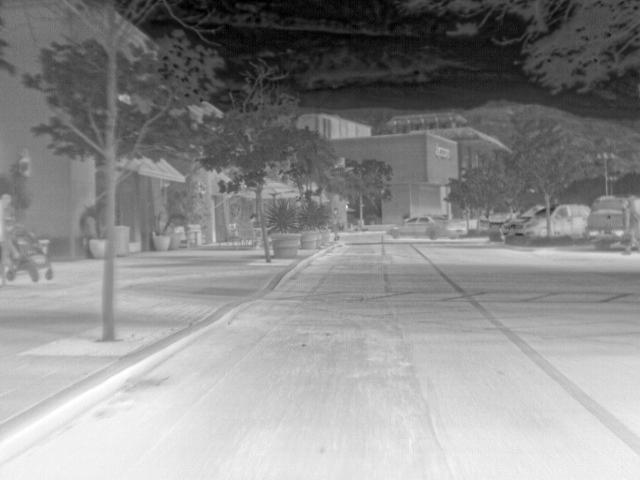car: (588, 193, 640, 252), (386, 215, 467, 241), (502, 203, 547, 238), (550, 200, 588, 234), (480, 213, 504, 230)
person: (1, 191, 16, 288), (15, 234, 35, 260), (244, 211, 257, 229)
